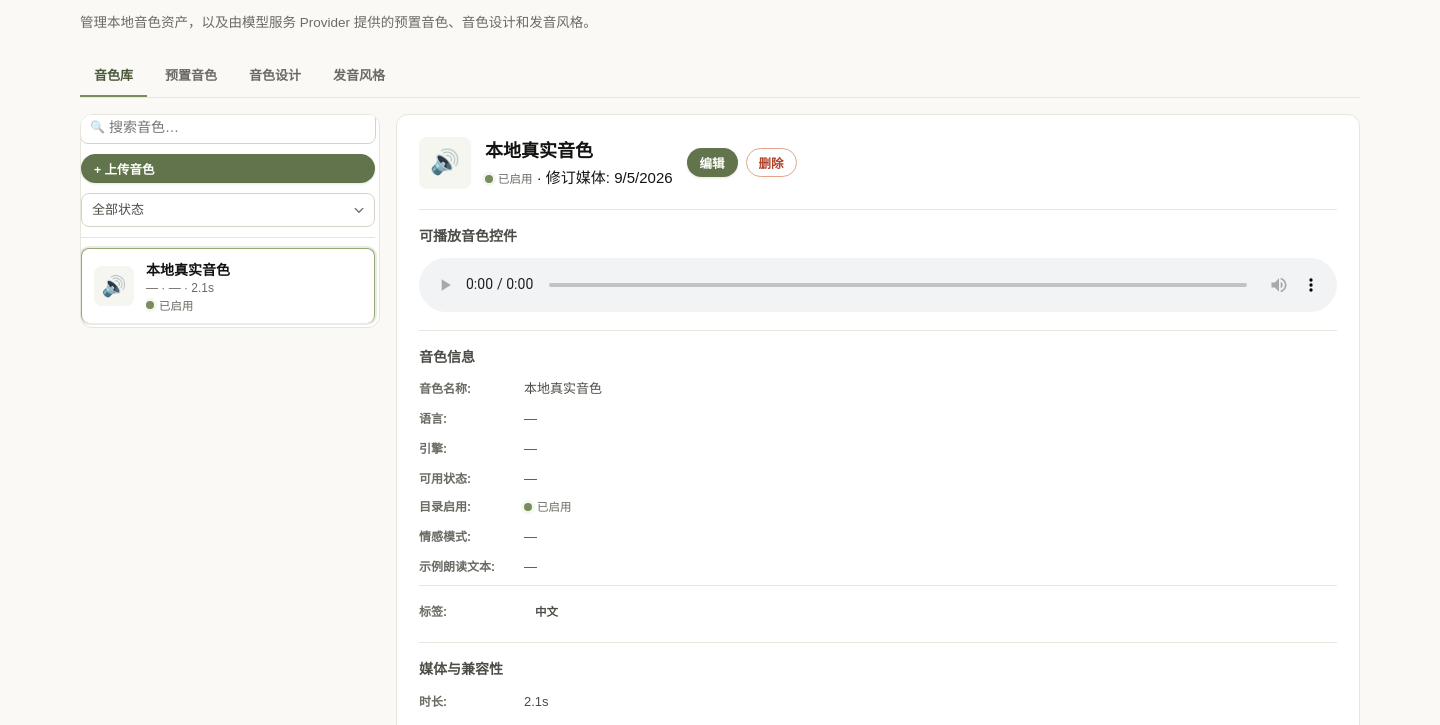
VoiceManagementPage provider information architecture › shows a controlled error and no audio when the preview API is unavailable
Click the tab "预置音色". click: (191, 76)
box: [151, 55, 231, 97]
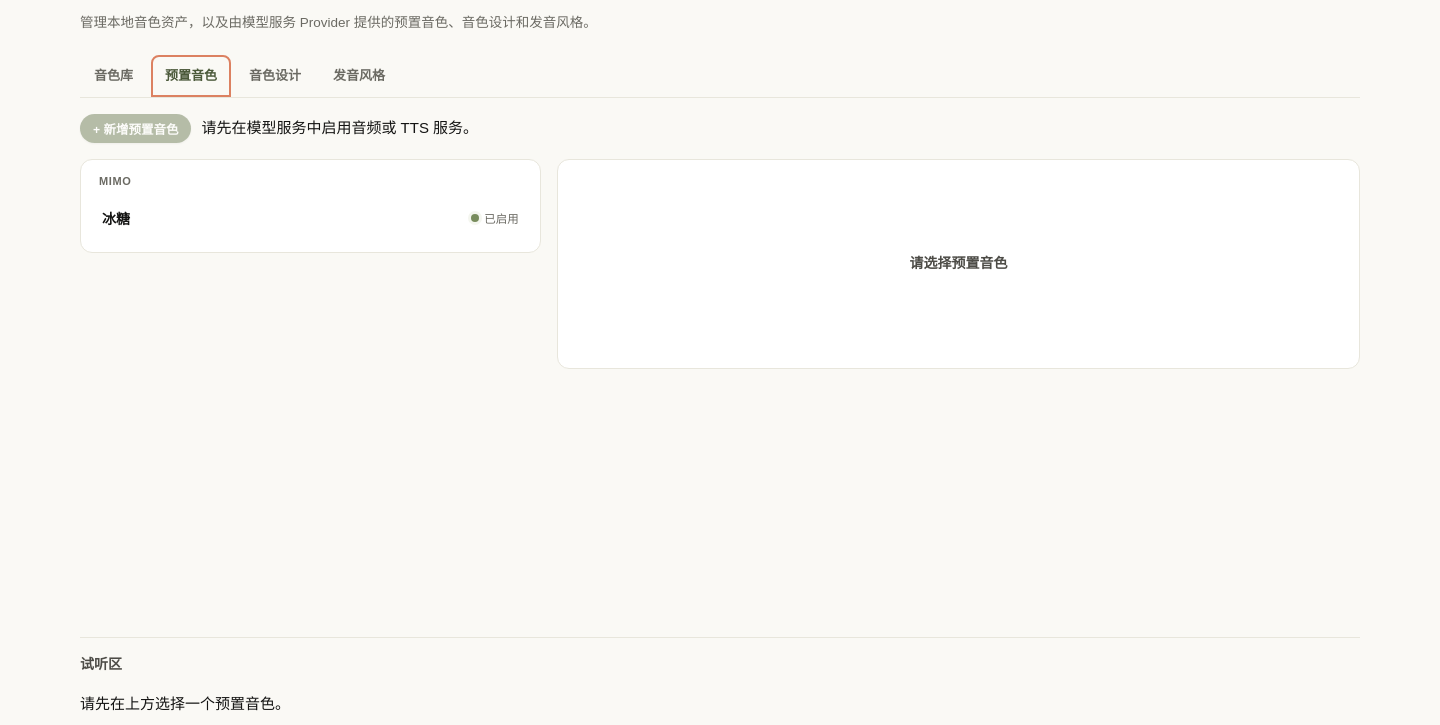
Click the text "冰糖". click: (116, 218)
box: [102, 208, 130, 228]
(page scrolled)
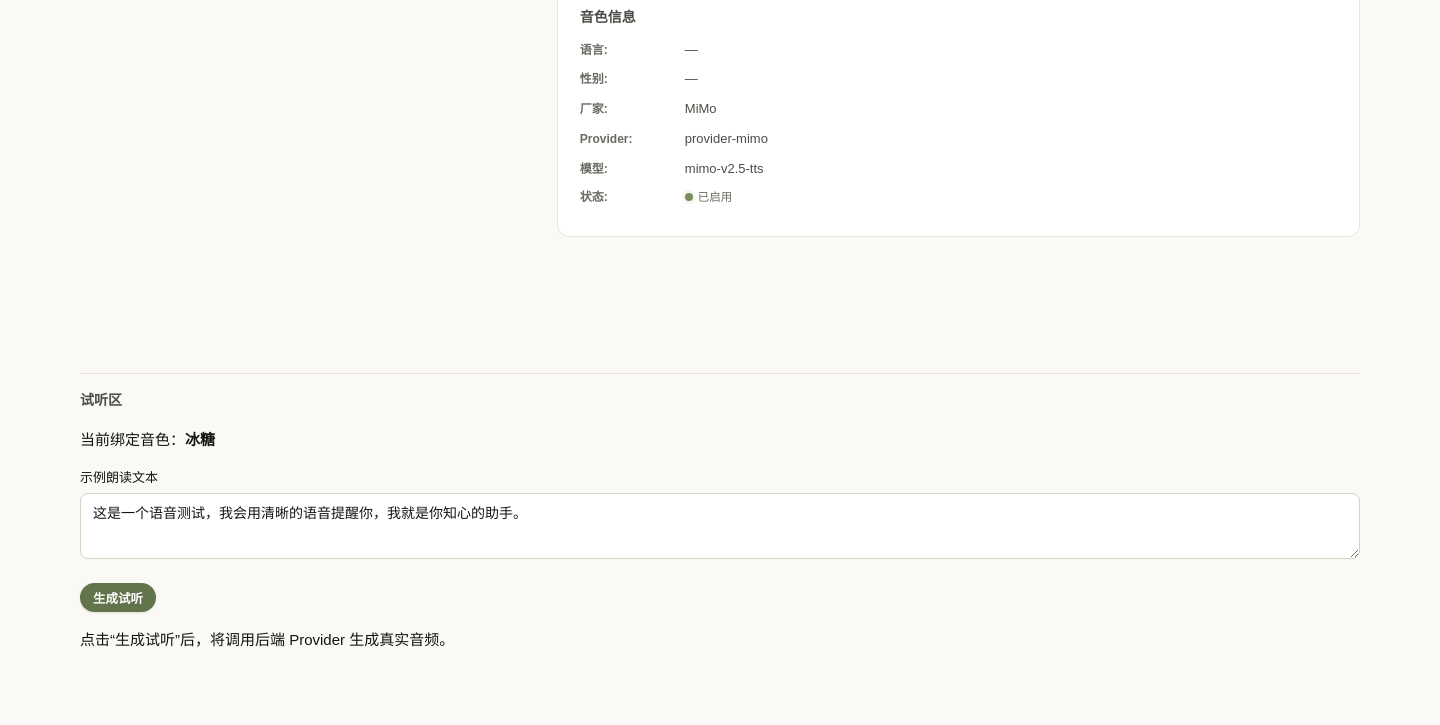
Click the button "生成试听". click: (118, 597)
box: [80, 583, 156, 612]
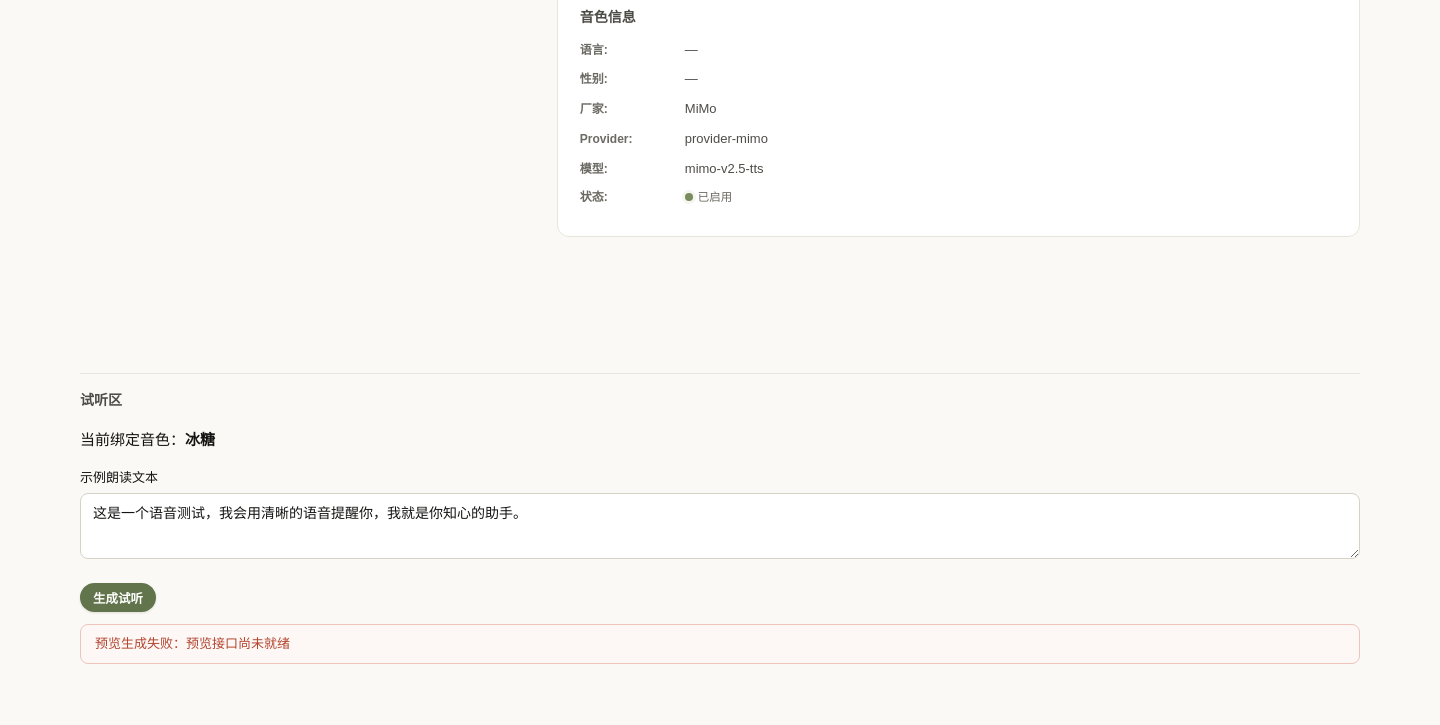
Expected: the message reads "预览生成失败：预览接口尚未就绪", [80, 624, 1360, 664]
